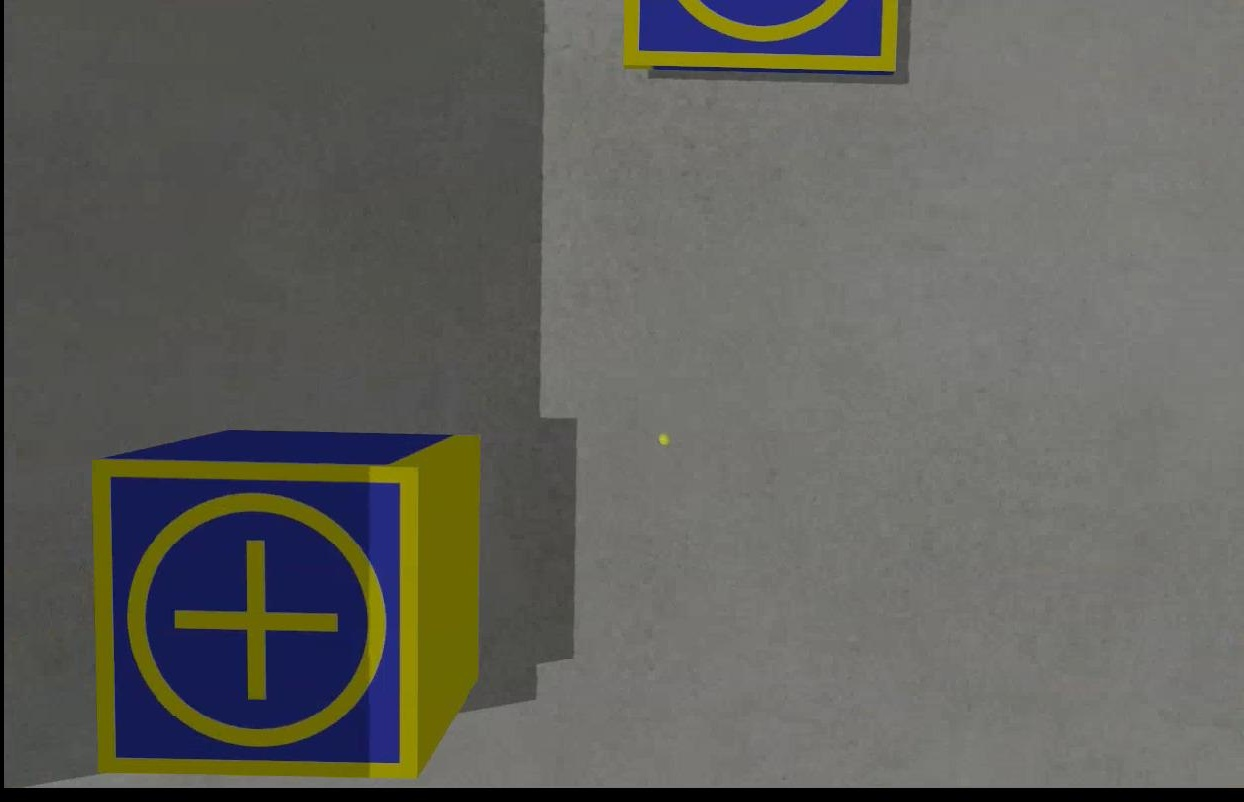small_base: (96, 462, 419, 775), (620, 1, 901, 73)
